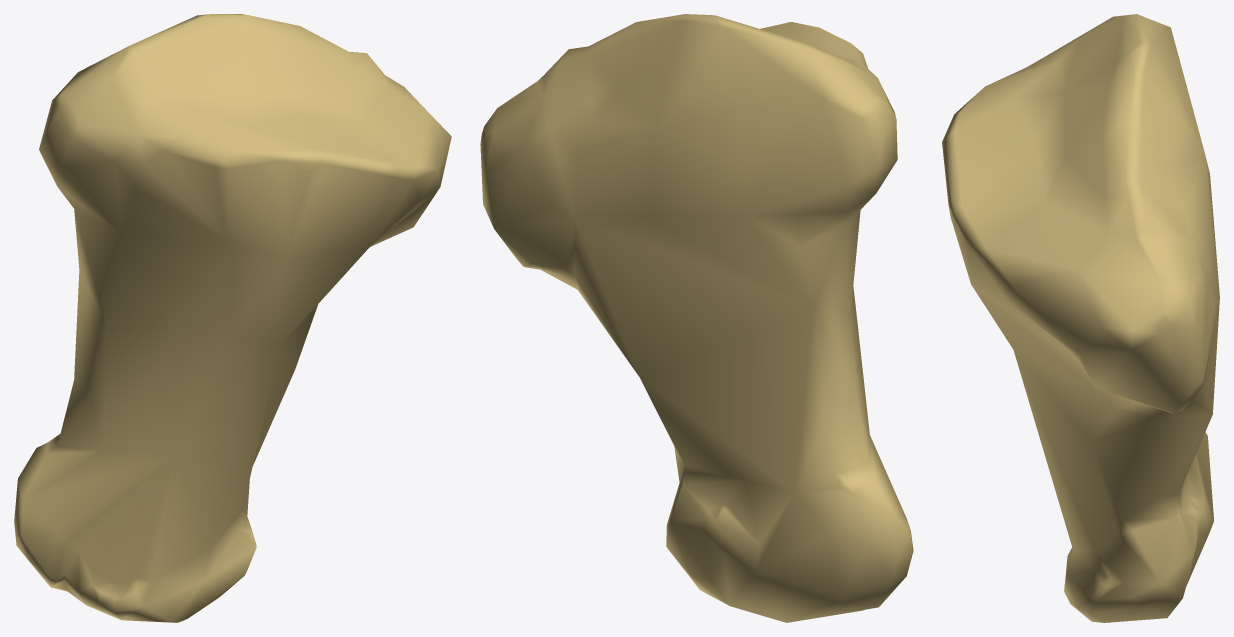
3 views of the same model, side by side, from view 1: azimuth 30°, elevation 25°; view 2: azimuth 150°, elevation 25°; view 3: azimuth 270°, elevation 25° (orthographic). The views are drawn at different scales.
Visible parts, largest first — view 1: 右侧第一趾远节趾骨; view 2: 右侧第一趾远节趾骨; view 3: 右侧第一趾远节趾骨.
Part boxes in pixels (left/top/right/bottom): 右侧第一趾远节趾骨: left=14, top=14, right=451, bottom=622; 右侧第一趾远节趾骨: left=480, top=14, right=913, bottom=622; 右侧第一趾远节趾骨: left=942, top=14, right=1219, bottom=622.
Bounding box in the file's own units: 0.0305 × 0.0396 × 0.0169.
